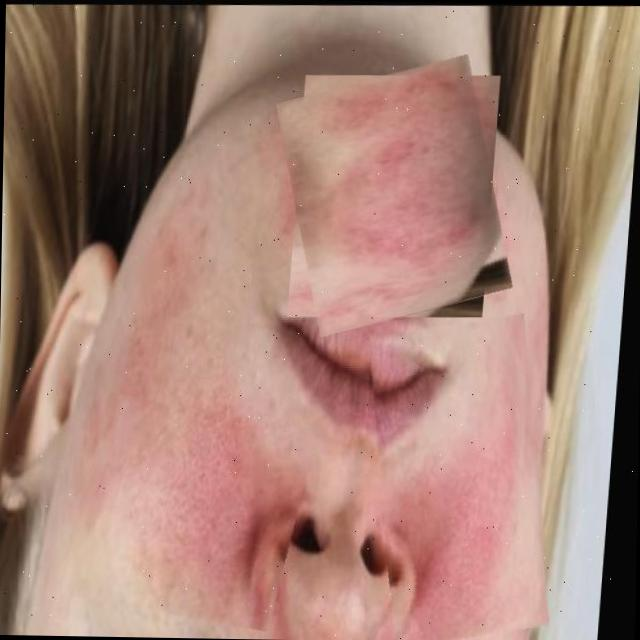redness: (89, 411, 305, 629), (321, 66, 489, 331), (401, 315, 537, 640)
